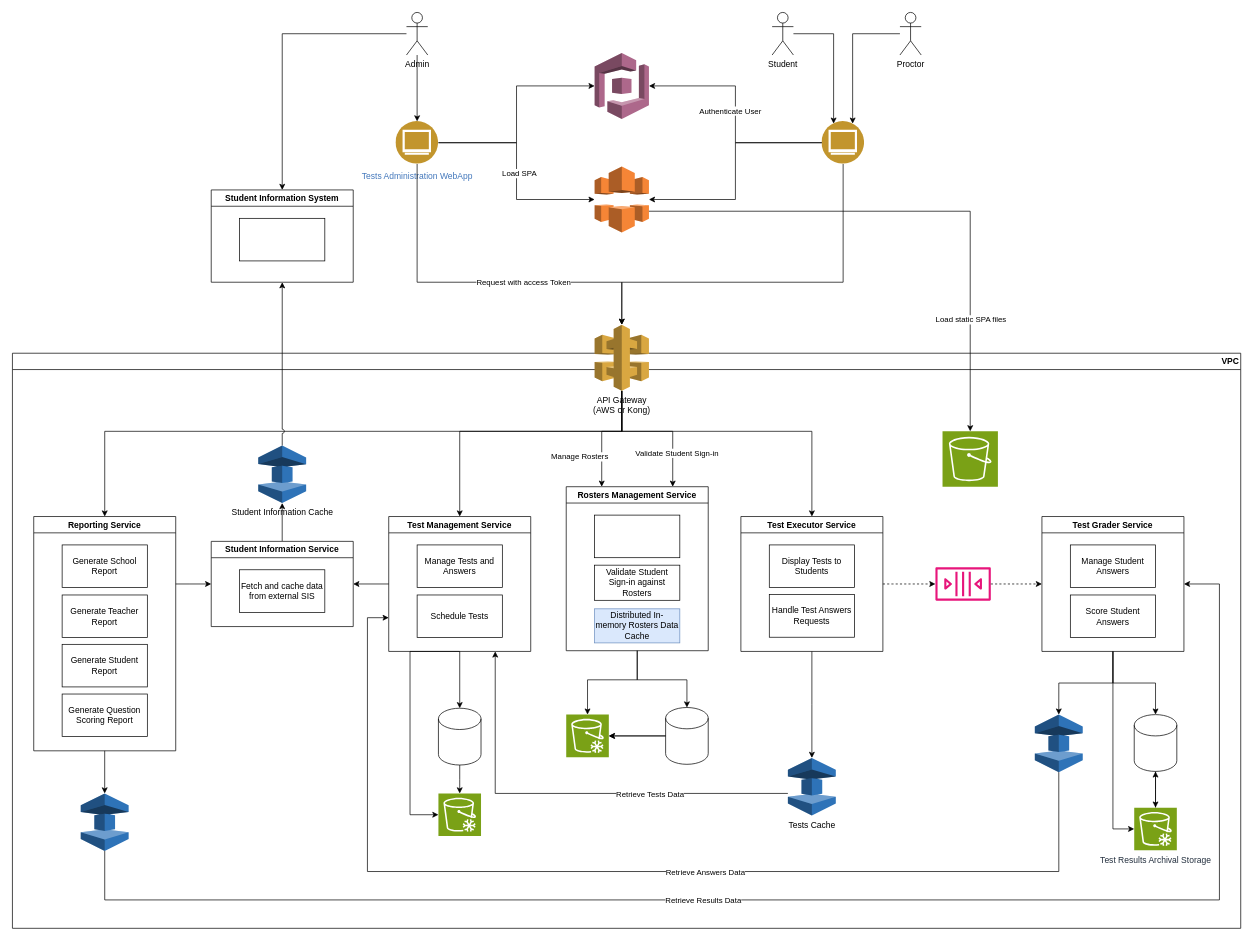
This 1253x941 diagram has some shape labels left out. Each missing label, with the centre of its shape:
"Answers Cache" belongs at (1058,743).
"CDN" belongs at (621,199).
"IAM Provider (AWS Cognito or Okta)" belongs at (621,85).
"Manage Rosters (Test Id + Student Id + Status)" belongs at (637,536).
"Manage Students, Schools, Teachers data" belongs at (282,239).
"Rosters Archival Storage" belongs at (587,735).
"Rosters DB" belongs at (686,735).
"S3" belongs at (970,459).
"Student Answers Topic (Kafka for better scalability)" belongs at (962,583).
"Test Executions WebApp" belongs at (842,142).
"Test Results Cache" belongs at (104,822).
"Test Results DB" belongs at (1155,742).
"Tests and Answers Archival Storage" belongs at (459,814).
"Tests and Answers DB" belongs at (459,736).
